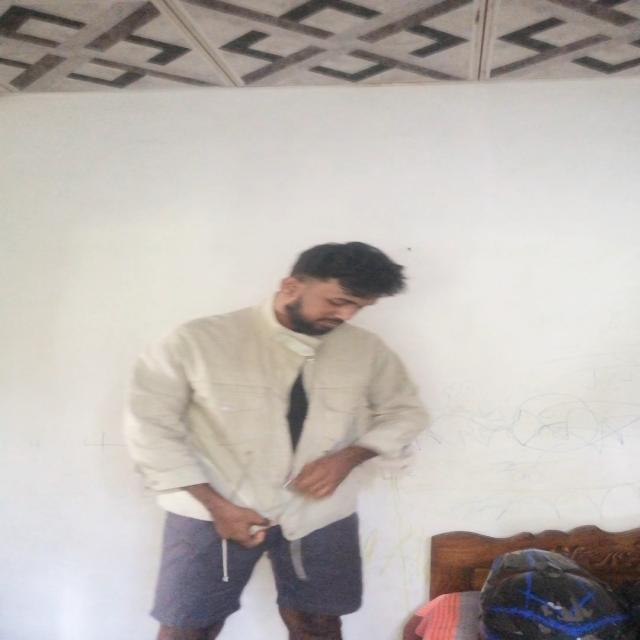Jacket_Wearer: (123, 307, 449, 530)
Person: (133, 229, 424, 640)
